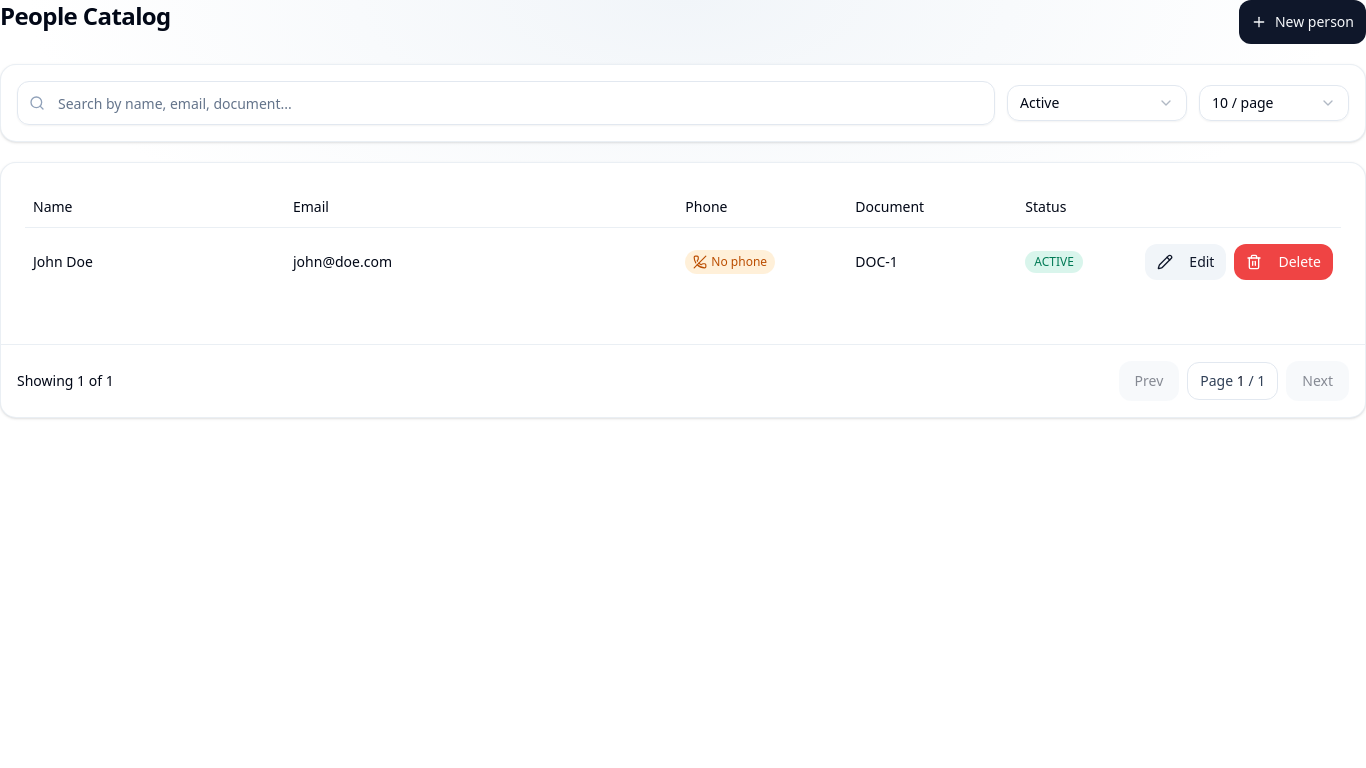
Test: PersonsPage › opens sheet for creating a person
Expected: the text "John Doe" is shown, [33, 252, 93, 270]
Step 1. Click the button "New person" → {"x": 1302, "y": 22}, box [1239, 0, 1365, 44]
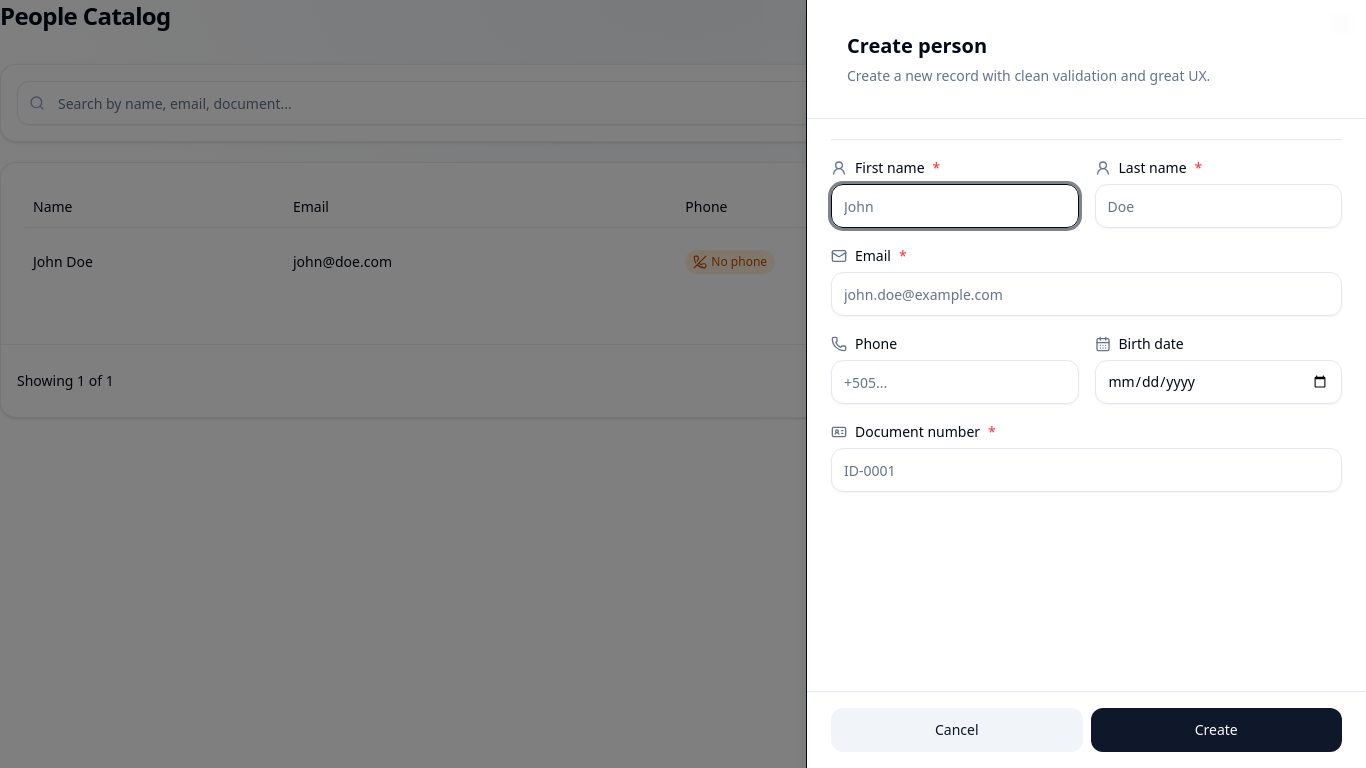
Expected: the heading "Create person" is shown, [847, 32, 987, 59]
